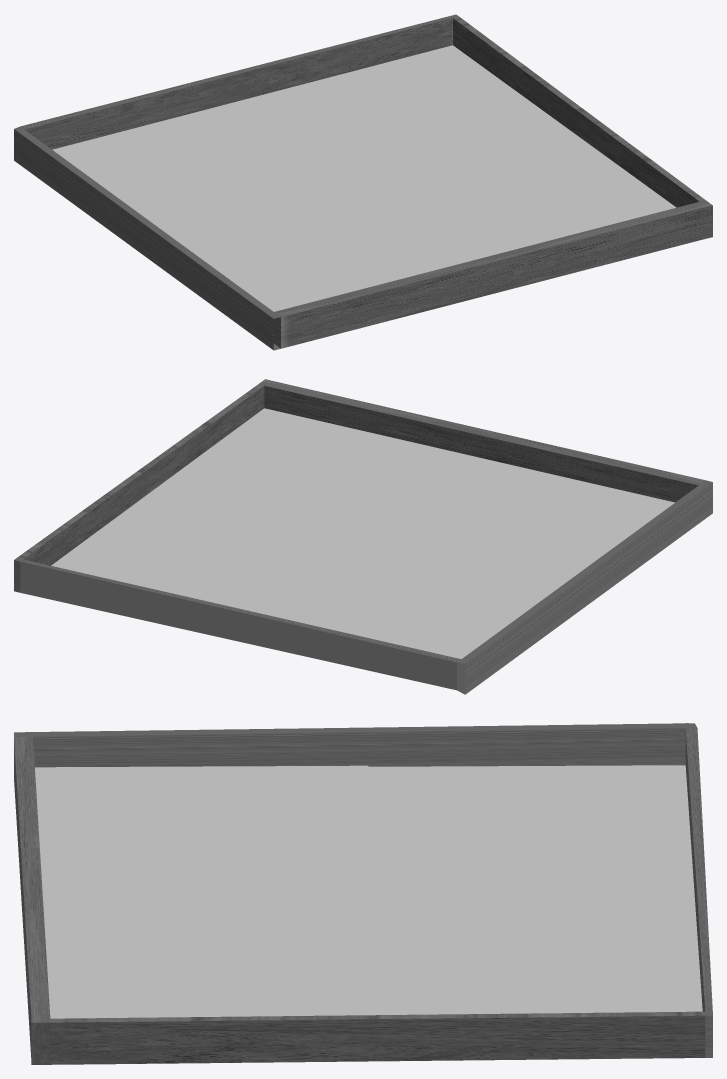
File: Dirbed.fbx
3 renders of one model, top to bottom at view 1: azimuth 30°, elevation 25°; view 2: azimuth 150°, elevation 25°; view 3: azimuth 270°, elevation 25°, orthographic. The views are drawn at different scales.
Visible parts, largest first — view 1: Plane.051; view 2: Plane.051; view 3: Plane.051.
Boxes of the visible parts, bbox=[...] form: Plane.051: bbox=[14, 14, 712, 350]; Plane.051: bbox=[14, 379, 712, 694]; Plane.051: bbox=[14, 723, 712, 1064].
Size of the model in its own units: 614 by 47.17 by 618.
